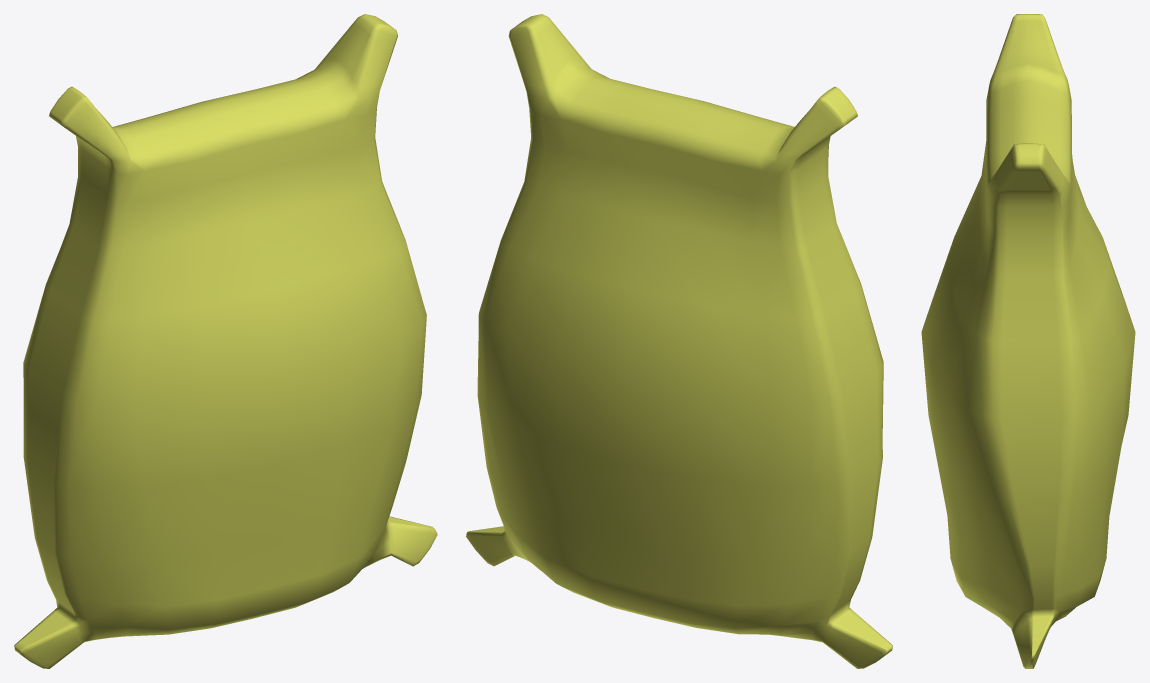
Rendered from Corn_Sack.fbx.
3 renders of one model, left to right at view 1: azimuth 30°, elevation 25°; view 2: azimuth 150°, elevation 25°; view 3: azimuth 270°, elevation 25°, orthographic. The views are drawn at different scales.
Parts seen in each view (by area): view 1: Corn_Sack1; view 2: Corn_Sack1; view 3: Corn_Sack1.
Part boxes in pixels (box(x1,y1,x2,y2)): Corn_Sack1: box(14, 14, 437, 668); Corn_Sack1: box(466, 14, 892, 668); Corn_Sack1: box(921, 14, 1135, 668).
Bounding box in the file's own units: 12.28 × 15.83 × 5.92.
